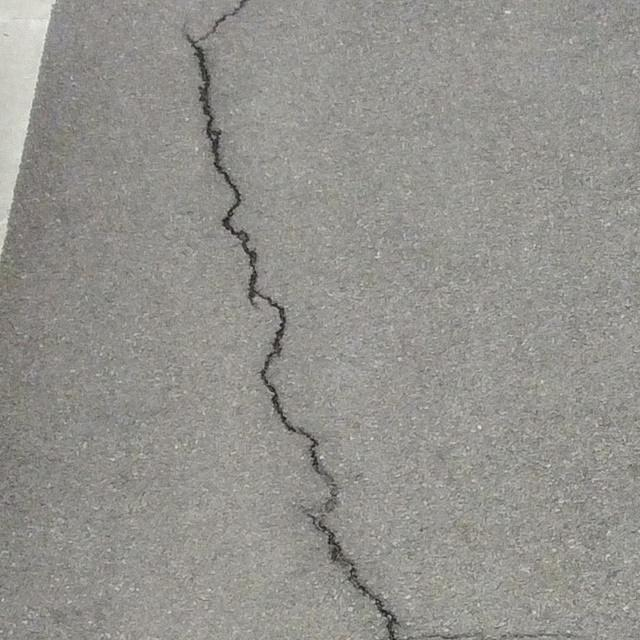LongitudinalCrack: (187, 1, 403, 640)
